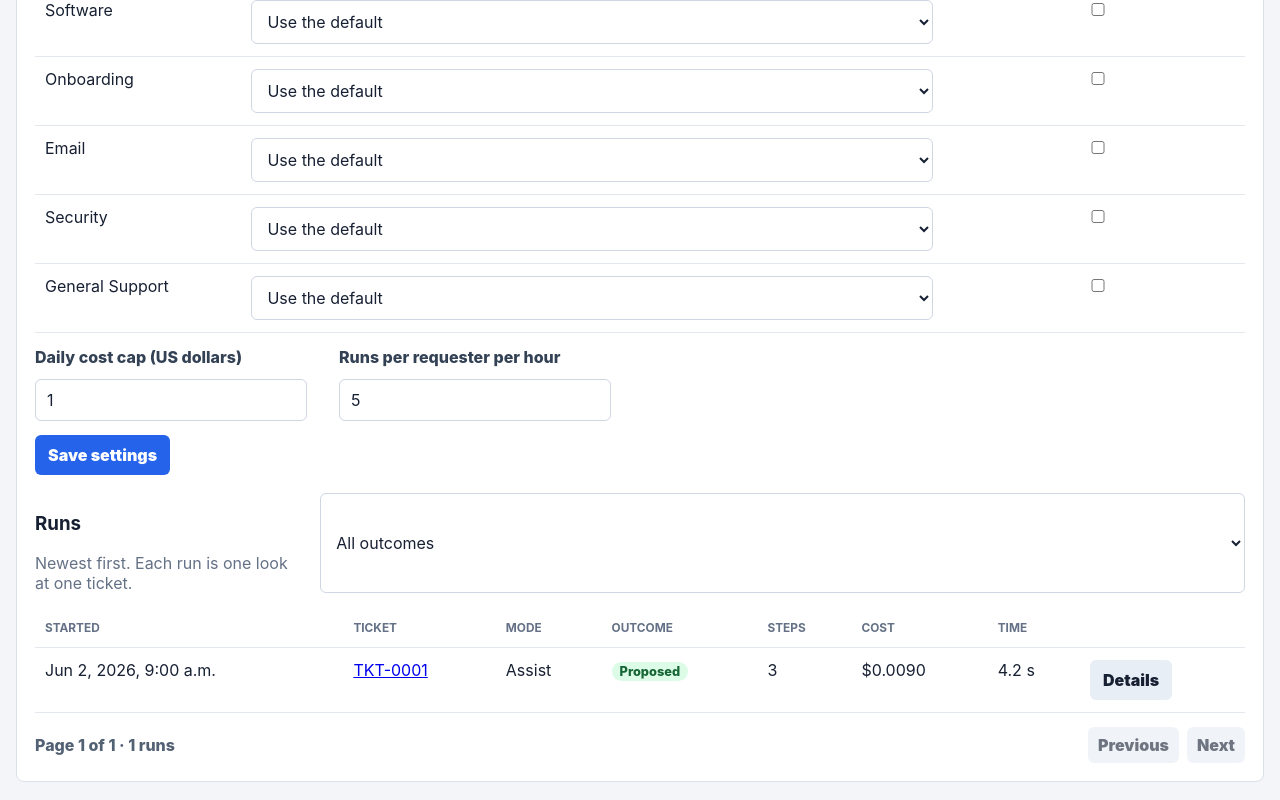
it: the settings form › will not save an empty cap, and says why
The image size is (1280, 800).
(page scrolled)
Clear the number field labelled "Daily cost cap (US dollars)" at point(171, 400), box [35,379,307,421]
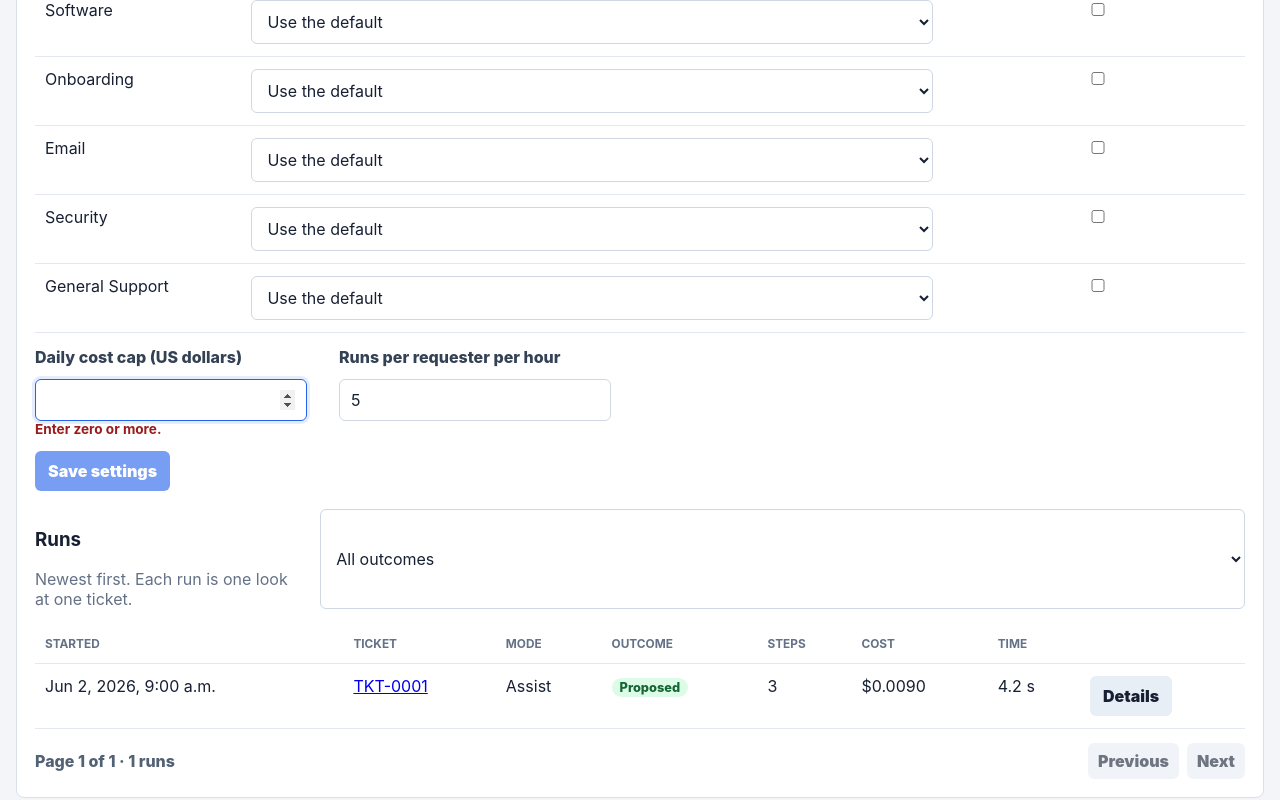
Expected: the text "Enter zero or more." is shown, [35,421,162,437]
Expected: the button "Save settings" is disabled, [35,451,170,491]
